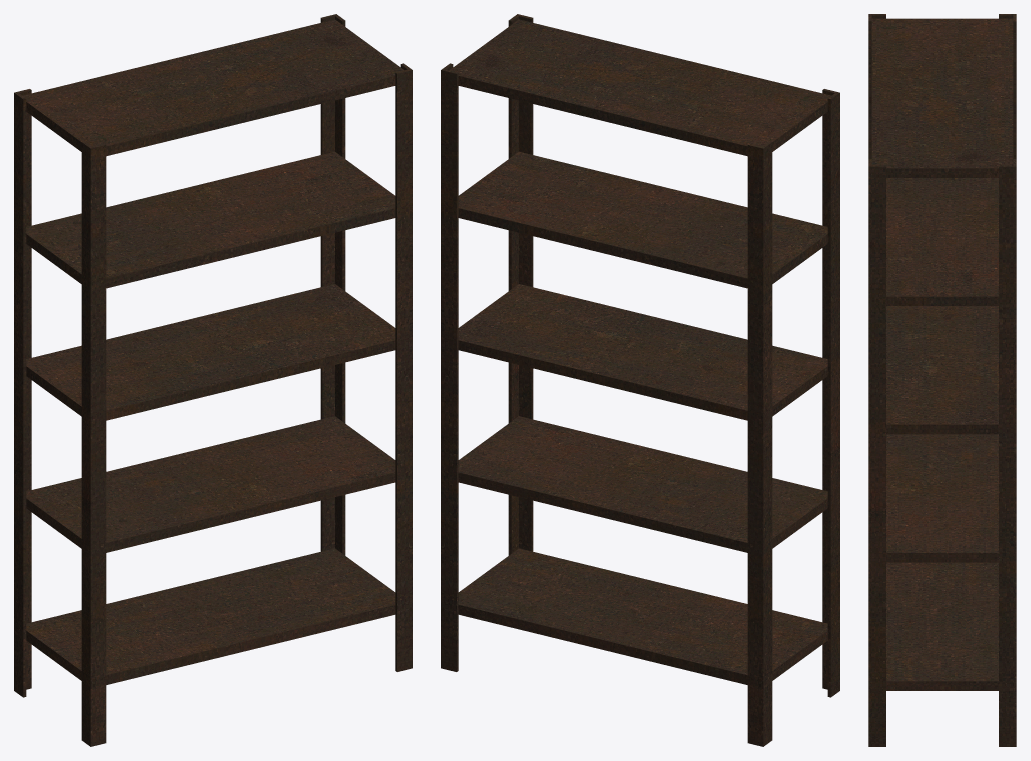
File: shelf_mx_5.glb
The picture shows the model from 3 angles, left to right: view 1: azimuth 30°, elevation 25°; view 2: azimuth 150°, elevation 25°; view 3: azimuth 270°, elevation 25°; orthographic projection. The views are drawn at different scales.
Visible parts, largest first — view 1: shelf_mx_5; view 2: shelf_mx_5; view 3: shelf_mx_5.
Boxes of the visible parts, <box> form: shelf_mx_5: <box>14,14,412,746</box>; shelf_mx_5: <box>441,14,839,746</box>; shelf_mx_5: <box>868,14,1016,746</box>.
Size of the model in its own units: 1.02 by 1.81 by 0.42.
Materials: 1 (1 with a texture image).
